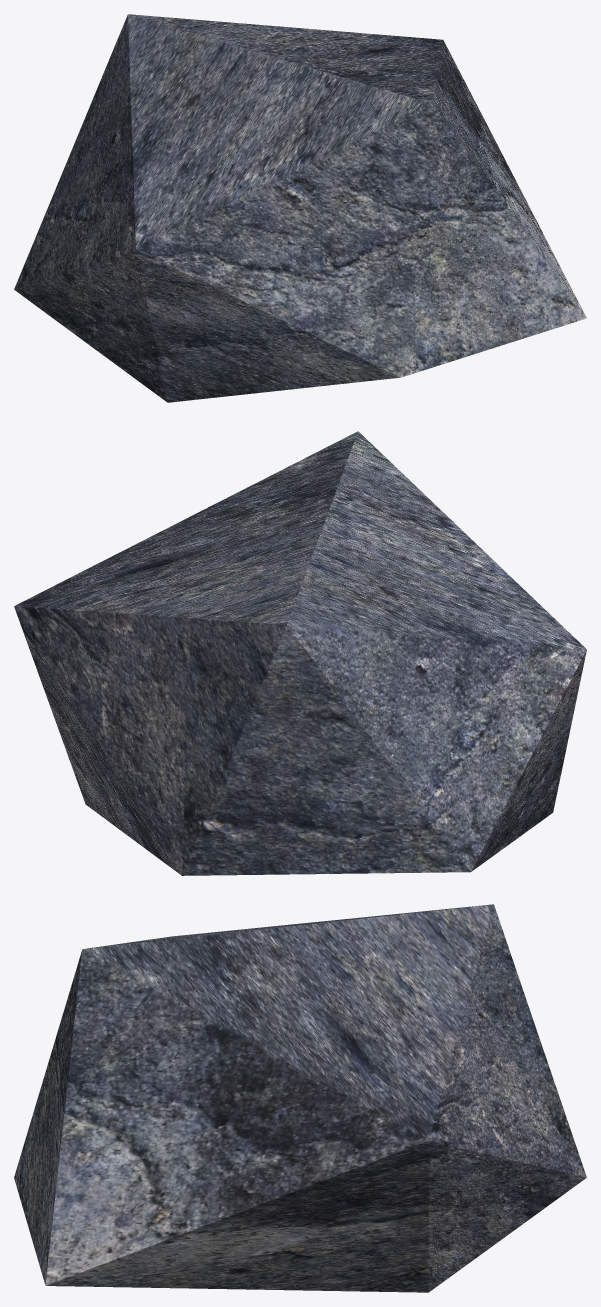
File: stone.fbx
3 renders of one model, top to bottom at view 1: azimuth 30°, elevation 25°; view 2: azimuth 150°, elevation 25°; view 3: azimuth 270°, elevation 25°, orthographic. The views are drawn at different scales.
Visible parts, largest first — view 1: pPlatonic1; view 2: pPlatonic1; view 3: pPlatonic1.
Boxes of the visible parts, x1,y1,x2,y2 form: pPlatonic1: (14,14,586,402); pPlatonic1: (14,431,586,875); pPlatonic1: (14,904,586,1292).
Bounding box in the file's own units: 1.92 × 1.17 × 2.
1 material, 1 textured.
